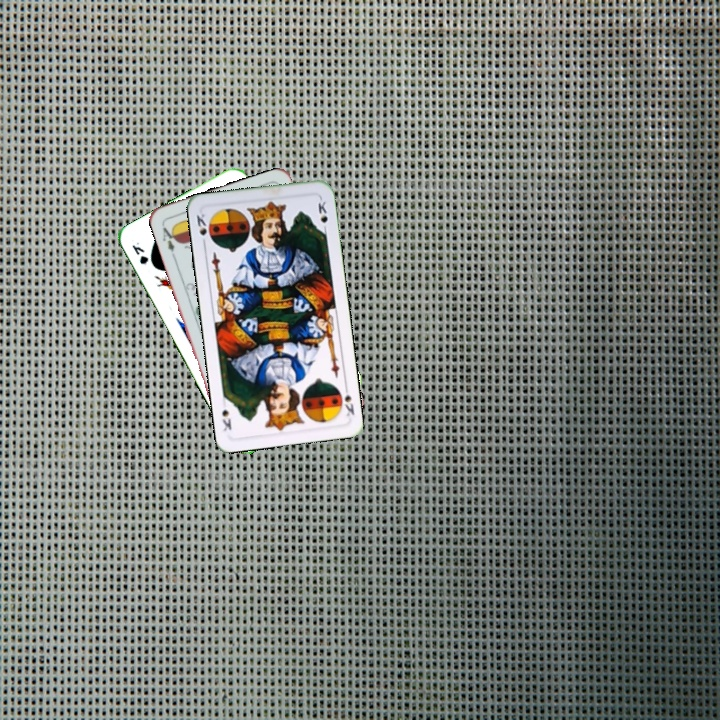EA: (158, 221, 180, 260)
GK: (128, 238, 151, 267)
SK: (192, 210, 209, 249), (340, 381, 357, 418)
